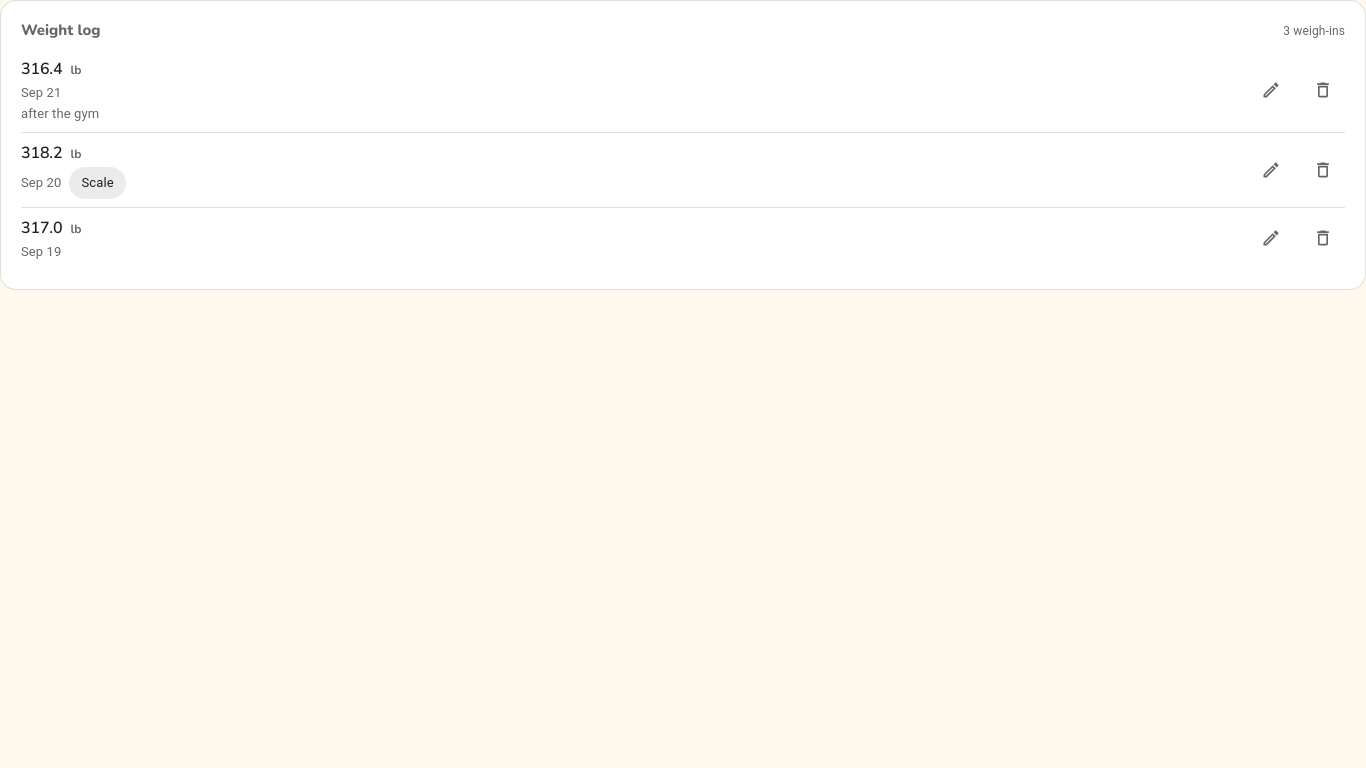
Test: WeightLogList › a rejected save shows the server's reason
The width and height of the screenshot is (1366, 768).
Click the button named "edit the 316.4" at (1271, 90), box [1249, 68, 1293, 112]
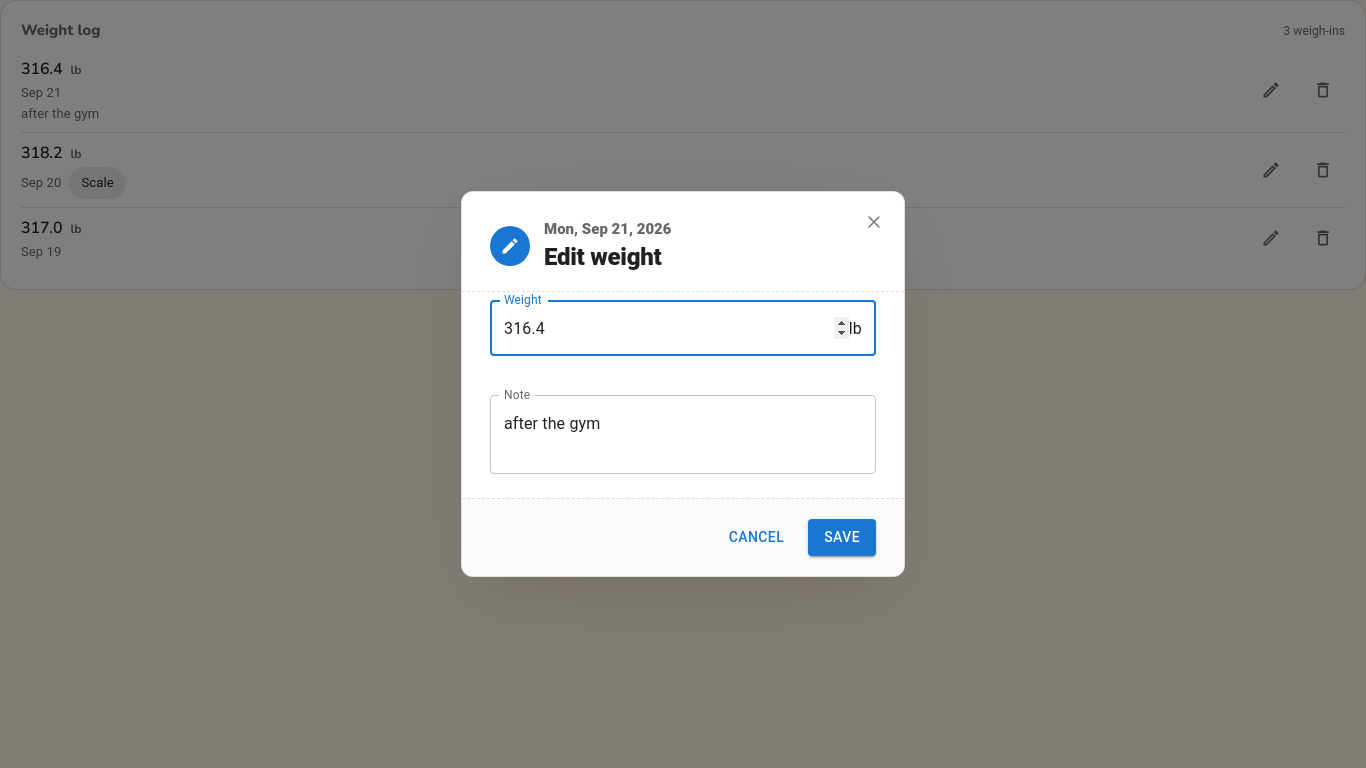
Click the button "Save" at (842, 538), box [808, 519, 876, 556]
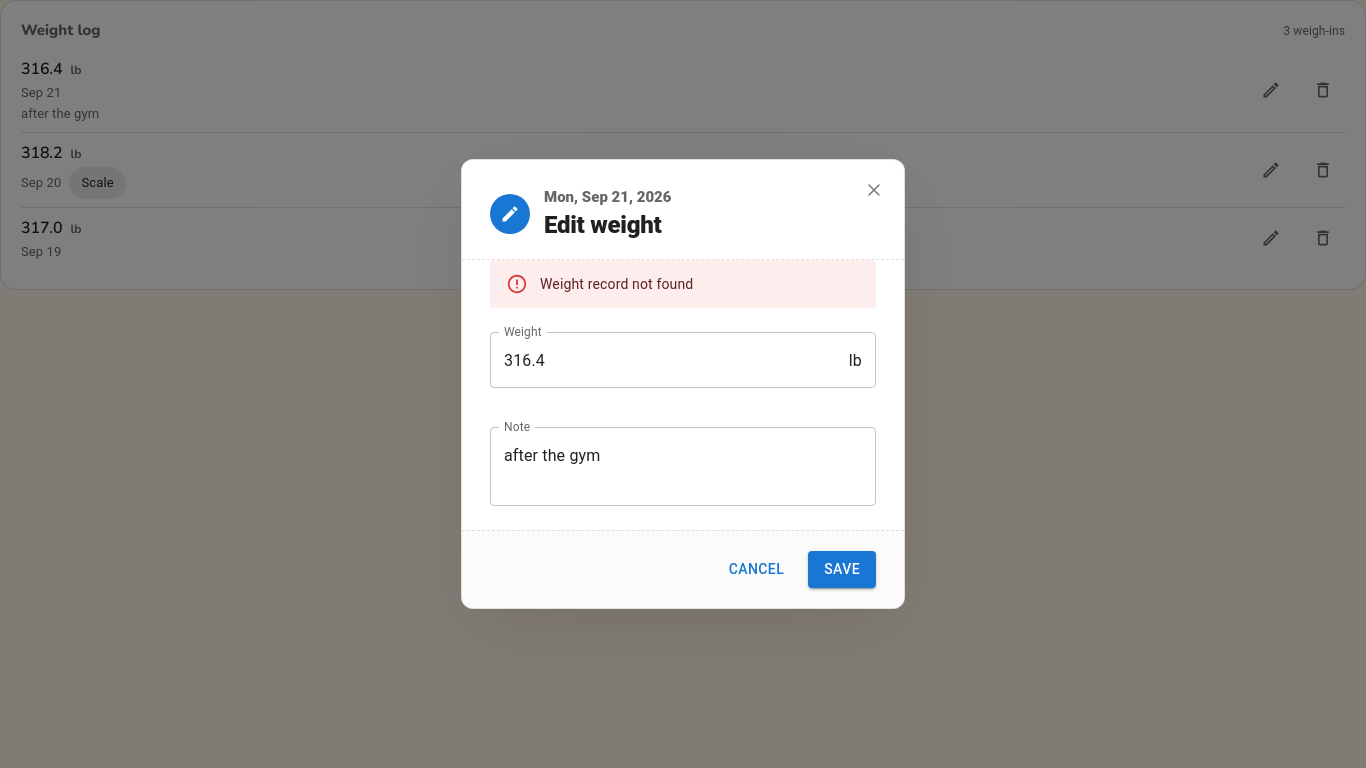
Expected: the message reads "Weight record not found", [540, 276, 693, 292]
